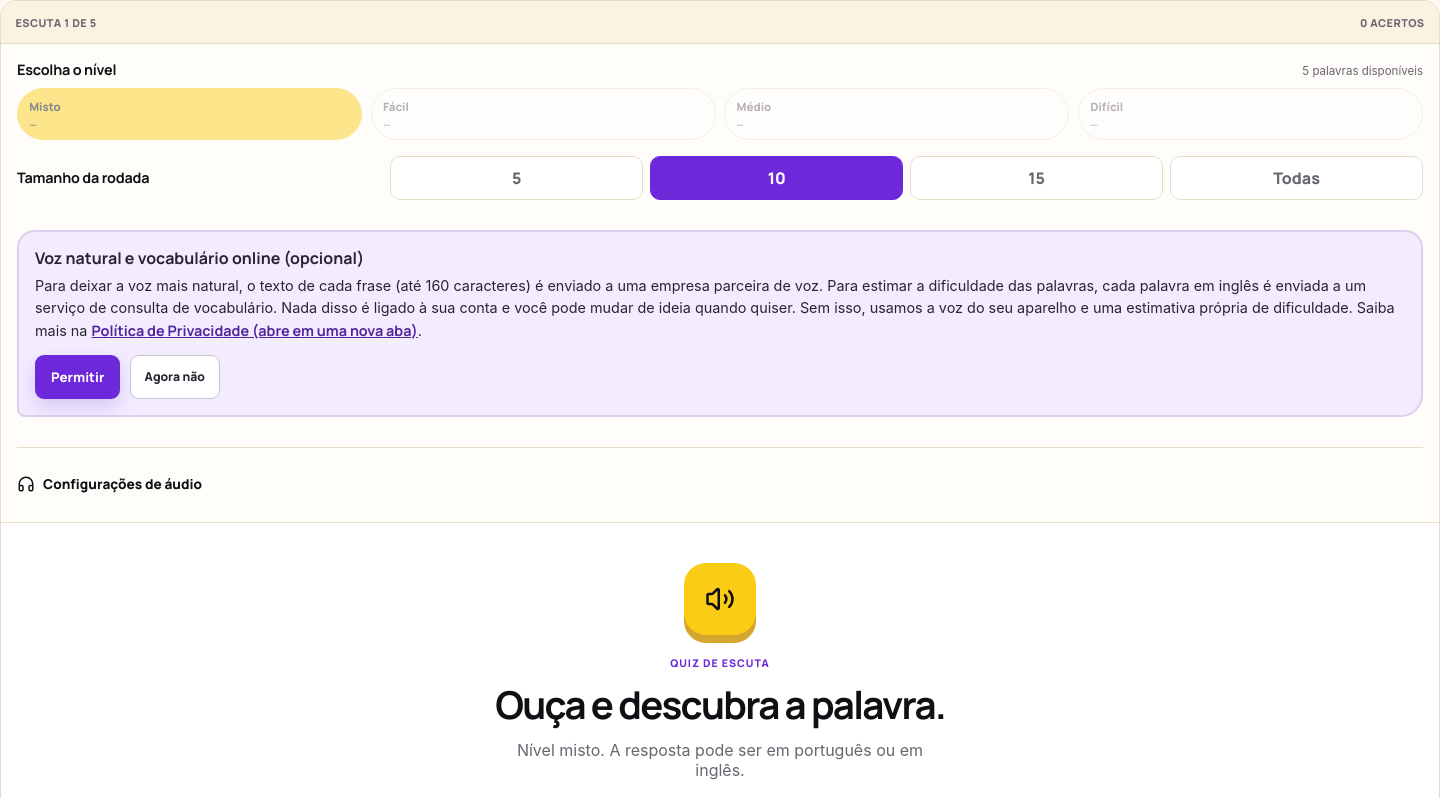
Scenario: aceite da voz natural no quiz de escuta › guarda a escolha neste aparelho e para de perguntar
This screenshot has width=1440, height=798.
Click the button "Permitir" at x=78, y=377, box [35,355,120,399]
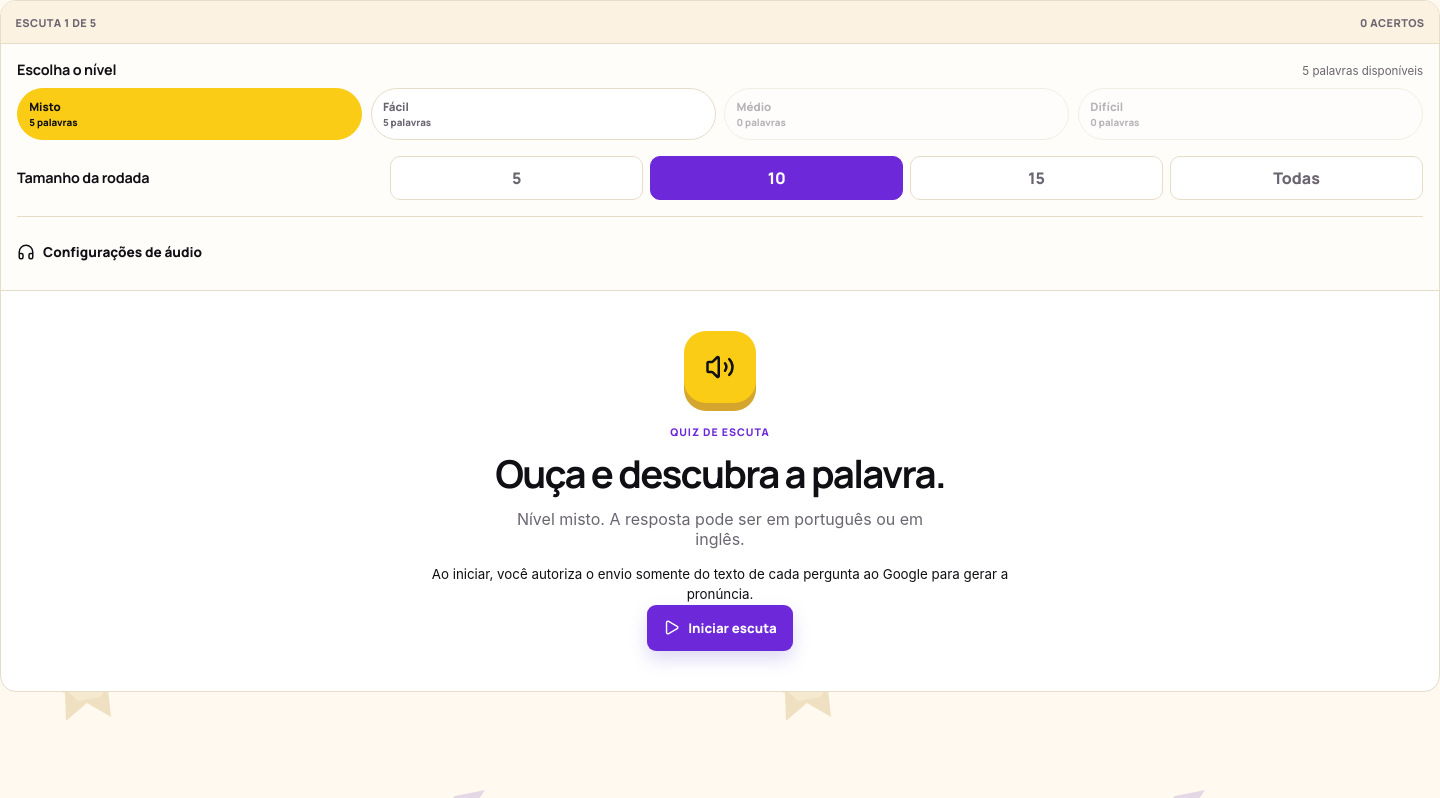
Expected: the heading "Voz natural e vocabulário online" is gone
